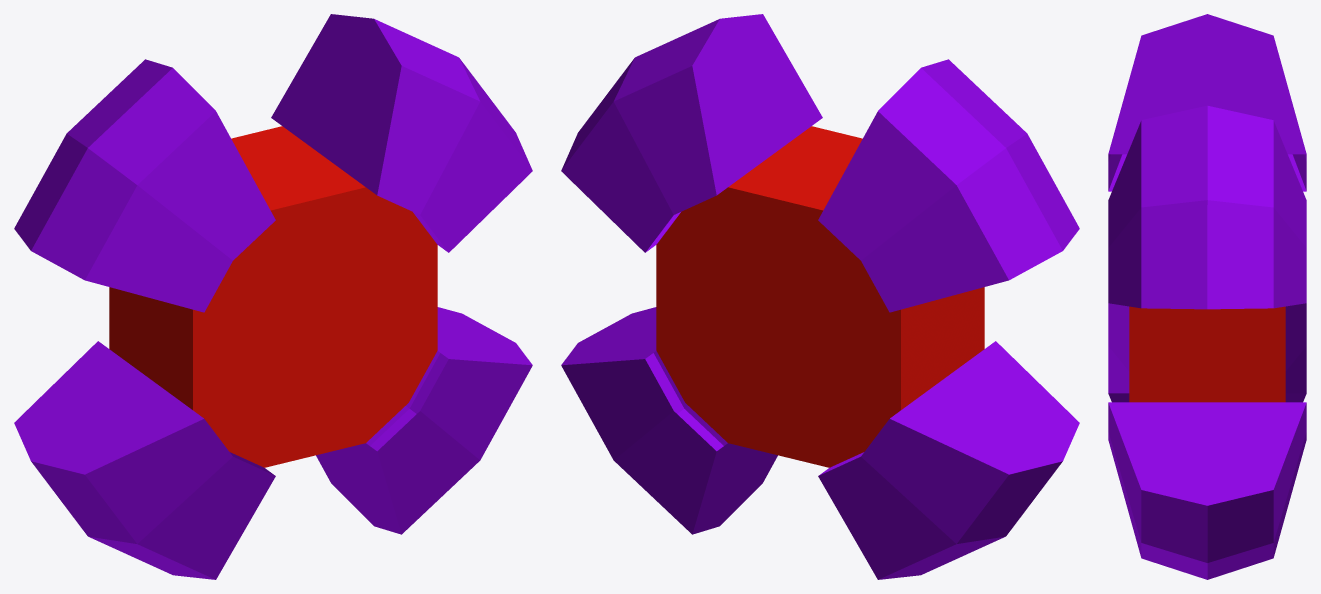
File: Enemy.dae
3 views of the same model, side by side, from view 1: azimuth 30°, elevation 25°; view 2: azimuth 150°, elevation 25°; view 3: azimuth 270°, elevation 25° (orthographic). The views are drawn at different scales.
Visible parts, largest first — view 1: Sphere; view 2: Sphere; view 3: Sphere.
Boxes of the visible parts, <box> form: Sphere: <box>14,14,532,579</box>; Sphere: <box>561,14,1079,579</box>; Sphere: <box>1108,14,1306,579</box>.
Bounding box in the file's own units: 6 × 2.28 × 6.
